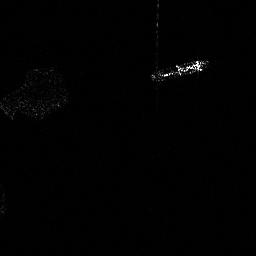ship: (149, 58, 207, 84)
